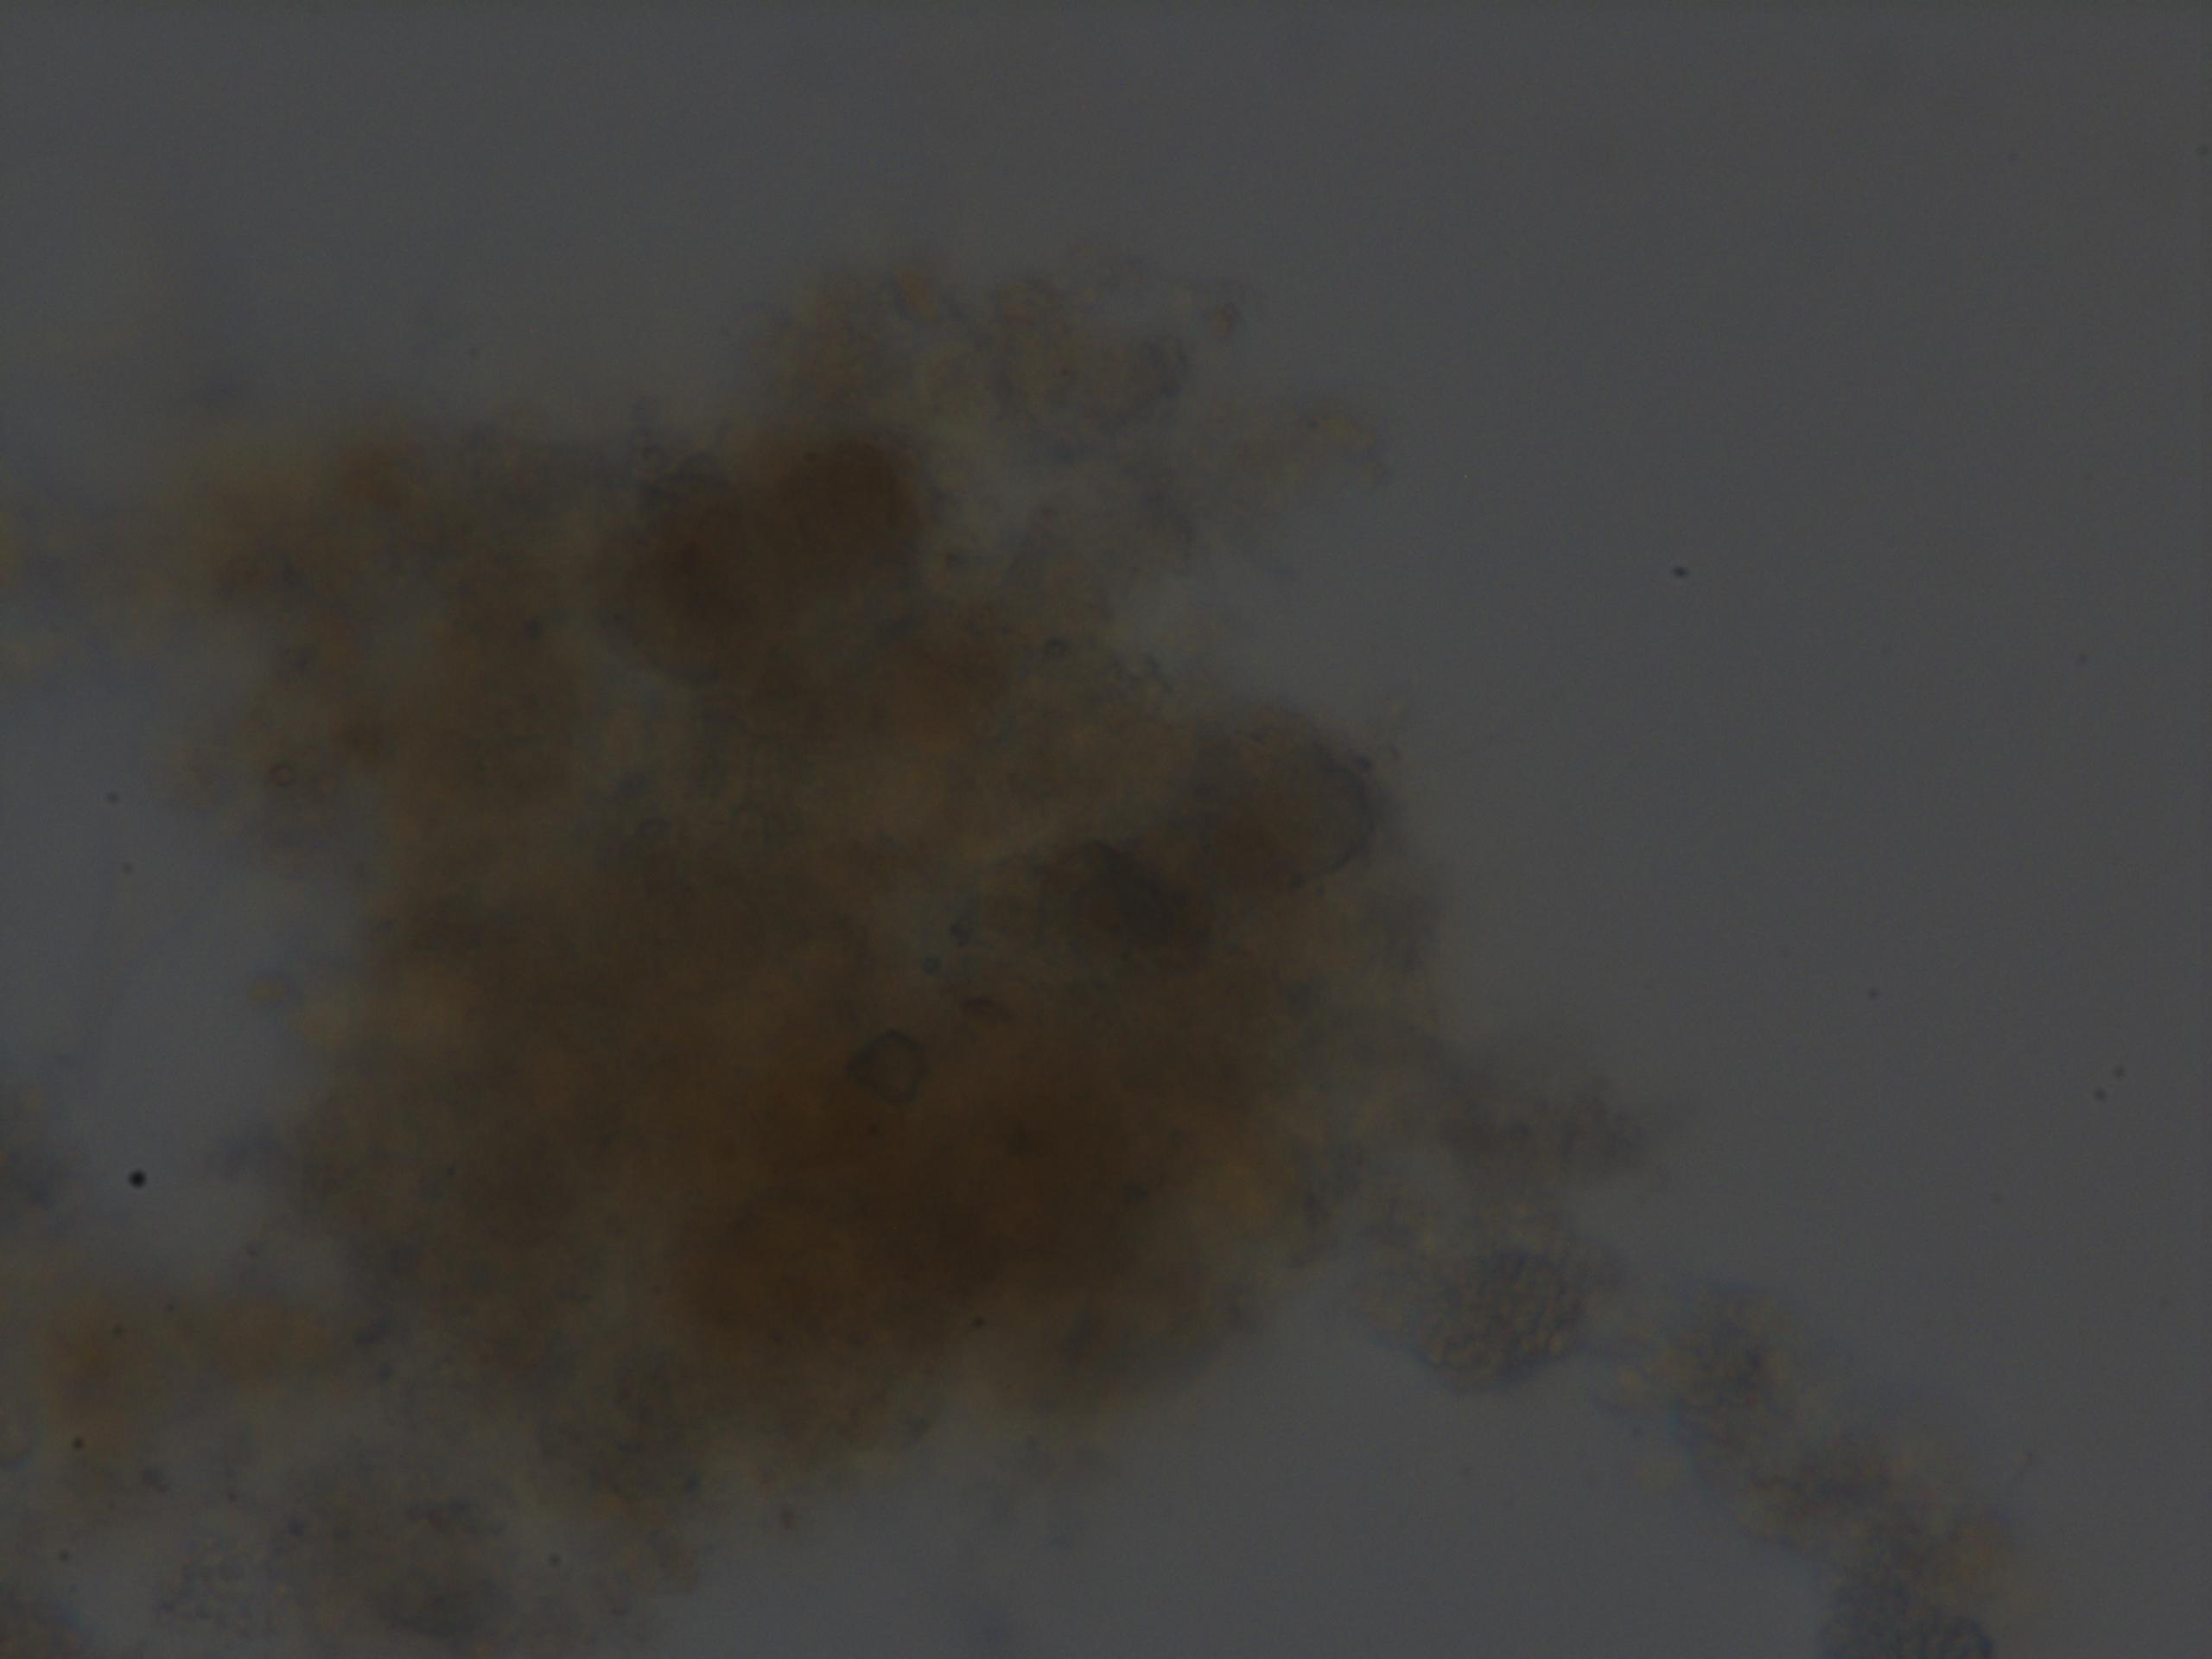spherical_floc: (174, 382, 1428, 1521)
